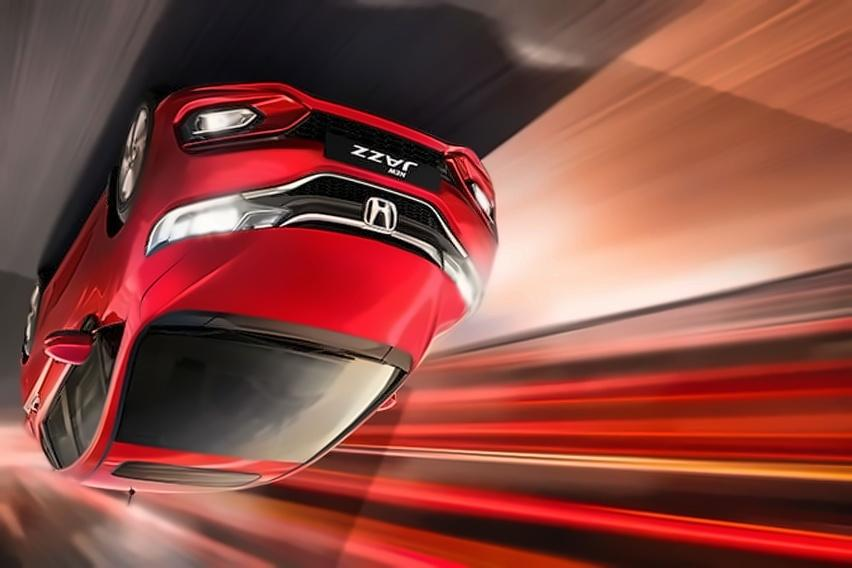Car hood: (134, 224, 471, 364)
Fender - -F-L-: (107, 176, 161, 335)
Front bumper: (144, 70, 511, 228)
Headlight - -L-: (142, 179, 302, 259)
Headlight - -R-: (429, 229, 494, 322)
Passenger-s door - -F-L-: (55, 235, 124, 453)
Passenger-s door - -R-L-: (22, 285, 80, 485)
Side bumper - -L-: (15, 185, 112, 306)
Side mirror - -L-: (40, 314, 97, 370)
Side mirror - -R-: (365, 379, 406, 428)
